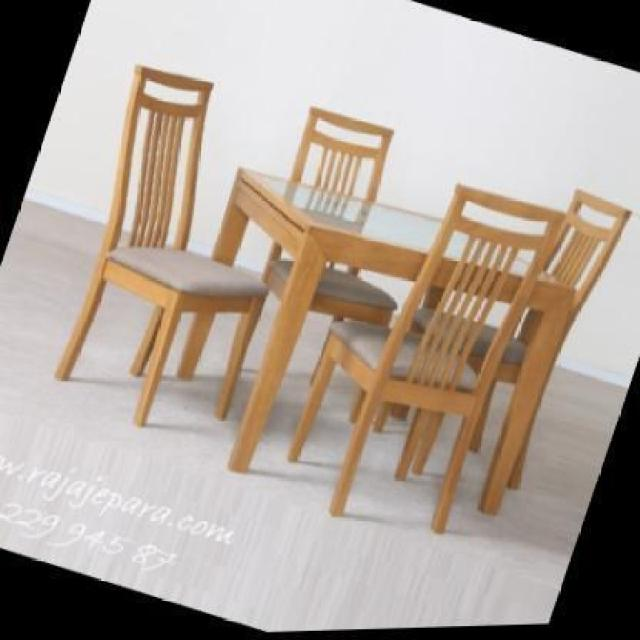tables: (216, 164, 570, 493)
